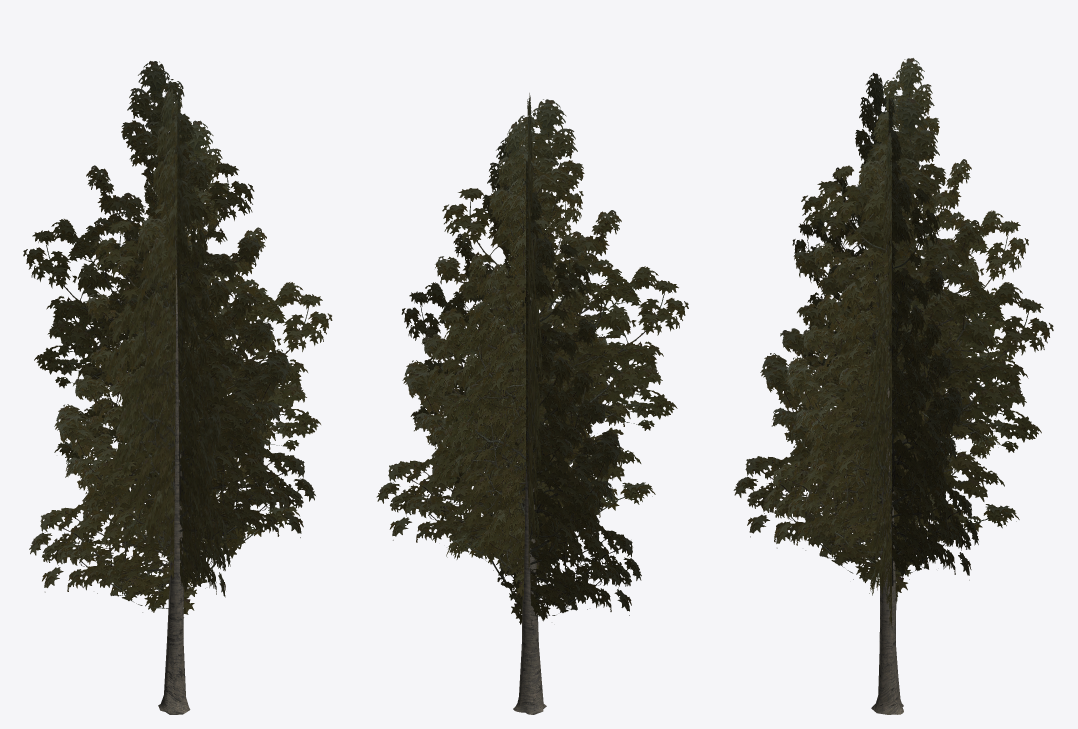
The model's file is tree_rt_2.dae.
3 renders of one model, left to right at view 1: azimuth 30°, elevation 25°; view 2: azimuth 150°, elevation 25°; view 3: azimuth 270°, elevation 25°, orthographic. The views are drawn at different scales.
Parts seen in each view (by area): view 1: tree_rt_2; view 2: tree_rt_2; view 3: tree_rt_2.
Part boxes in pixels (x1,y1,x2,y2): tree_rt_2: (23, 61, 332, 714); tree_rt_2: (376, 93, 688, 714); tree_rt_2: (733, 58, 1053, 714).
Size of the model in its own units: 2.3 by 2.3 by 4.91.
Materials: 2 (2 with a texture image).
